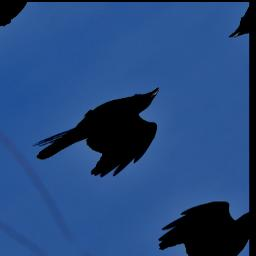Crow: (27, 66, 192, 205)
